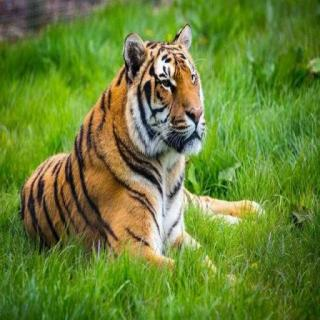Tiger: (13, 15, 269, 278)
